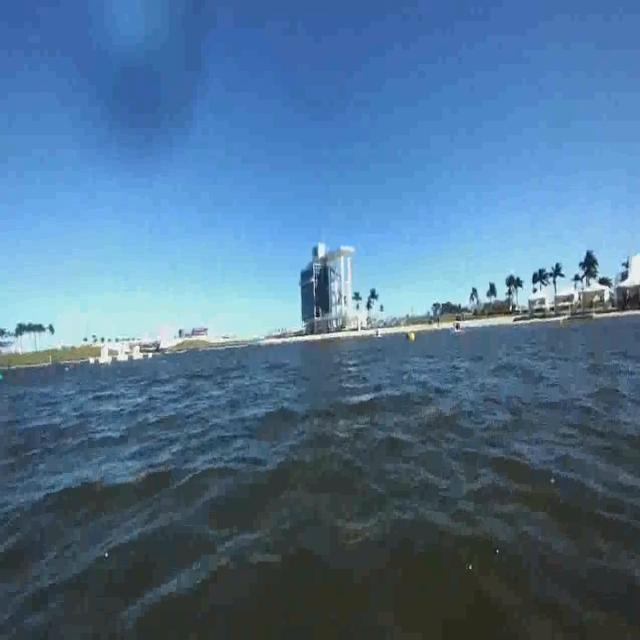yellow-buoy: (410, 333, 417, 344)
